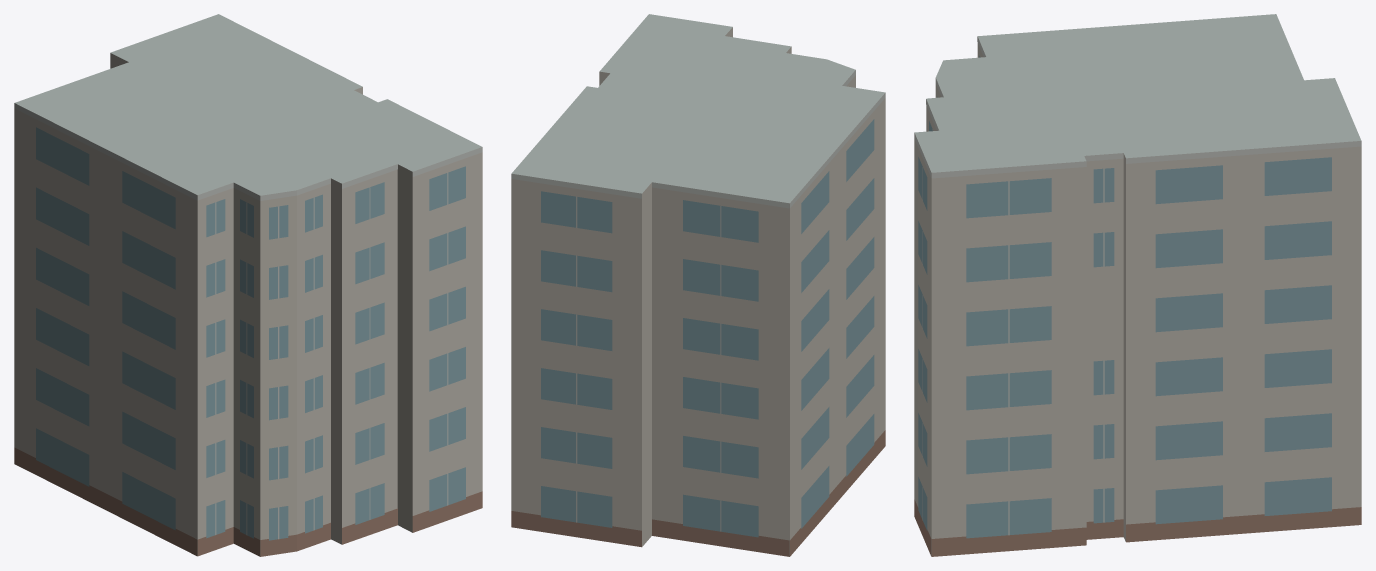
Rendered from survey-upis-32701242.glb.
3 renders of one model, left to right at view 1: azimuth 30°, elevation 25°; view 2: azimuth 150°, elevation 25°; view 3: azimuth 270°, elevation 25°, orthographic. The views are drawn at different scales.
Parts seen in each view (by area): view 1: survey-upis-32701242.tmp; view 2: survey-upis-32701242.tmp; view 3: survey-upis-32701242.tmp.
Boxes of the visible parts, x1,y1,x2,y2 form: survey-upis-32701242.tmp: (14,14,482,556); survey-upis-32701242.tmp: (511,14,885,556); survey-upis-32701242.tmp: (914,14,1361,556).
Size of the model in its own units: 14.73 by 16.6 by 17.53.
